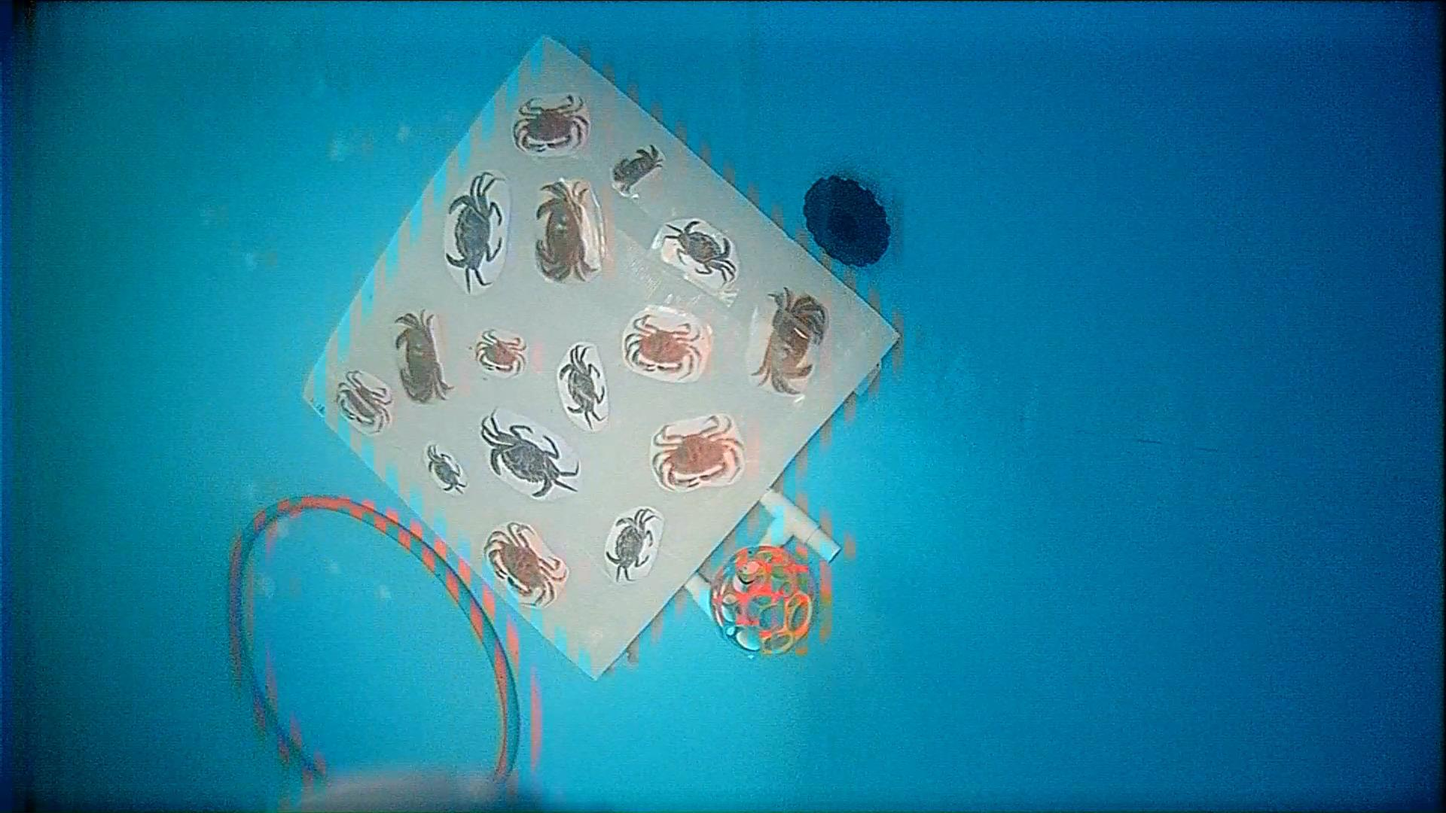GreenCrab: (480, 412, 579, 498), (446, 172, 502, 292), (665, 221, 736, 281)
